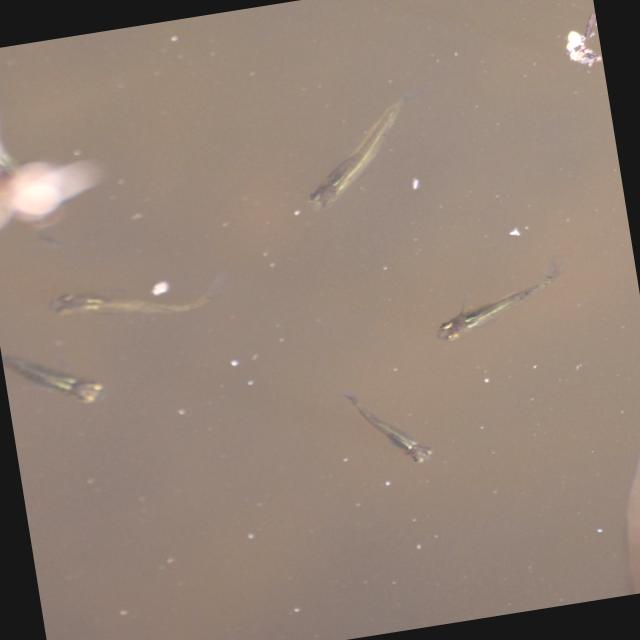Sivrisinek Baligi: (292, 89, 444, 218), (50, 268, 236, 335), (429, 264, 572, 348), (337, 376, 442, 476), (2, 327, 114, 418)
